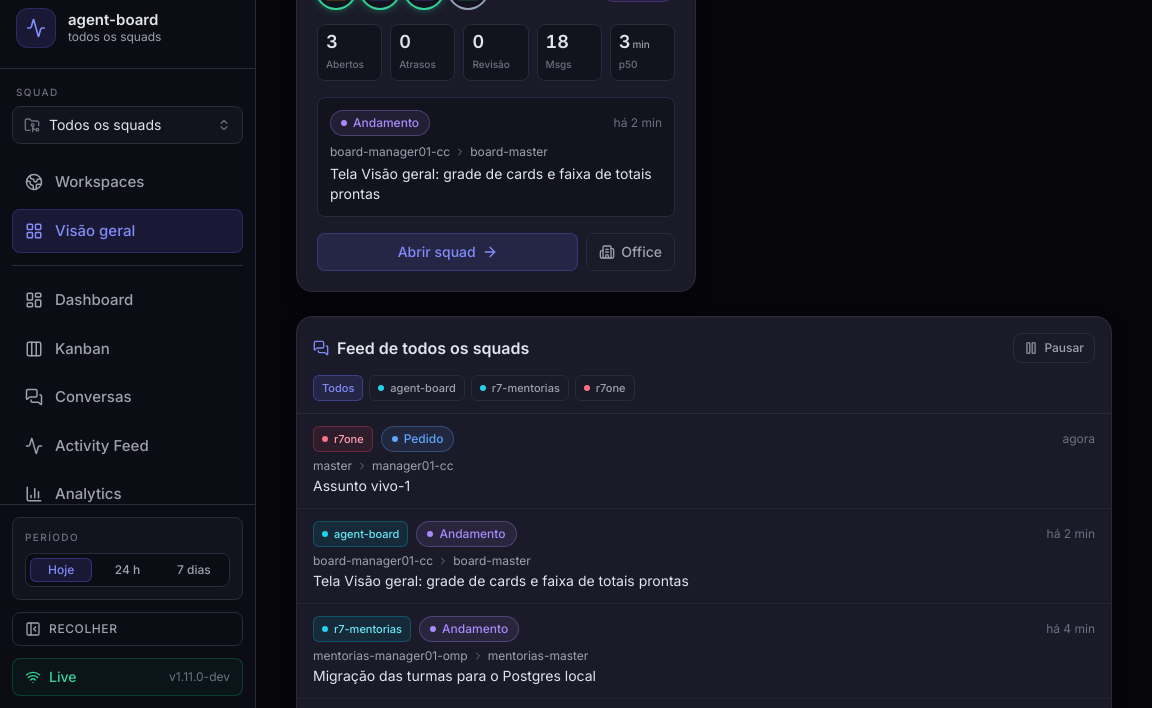
Test: feed unificado › pausa guarda as mensagens novas e retomar as despeja; a mensagem do stream aparece no topo
(page scrolled)
Expected: the list item with test id "feed-geral-linha" shows "Assunto vivo-1", [313,477,410,494]
Step 1. Click the button "Pausar" → {"x": 1054, "y": 348}, box [1013,333,1095,363]
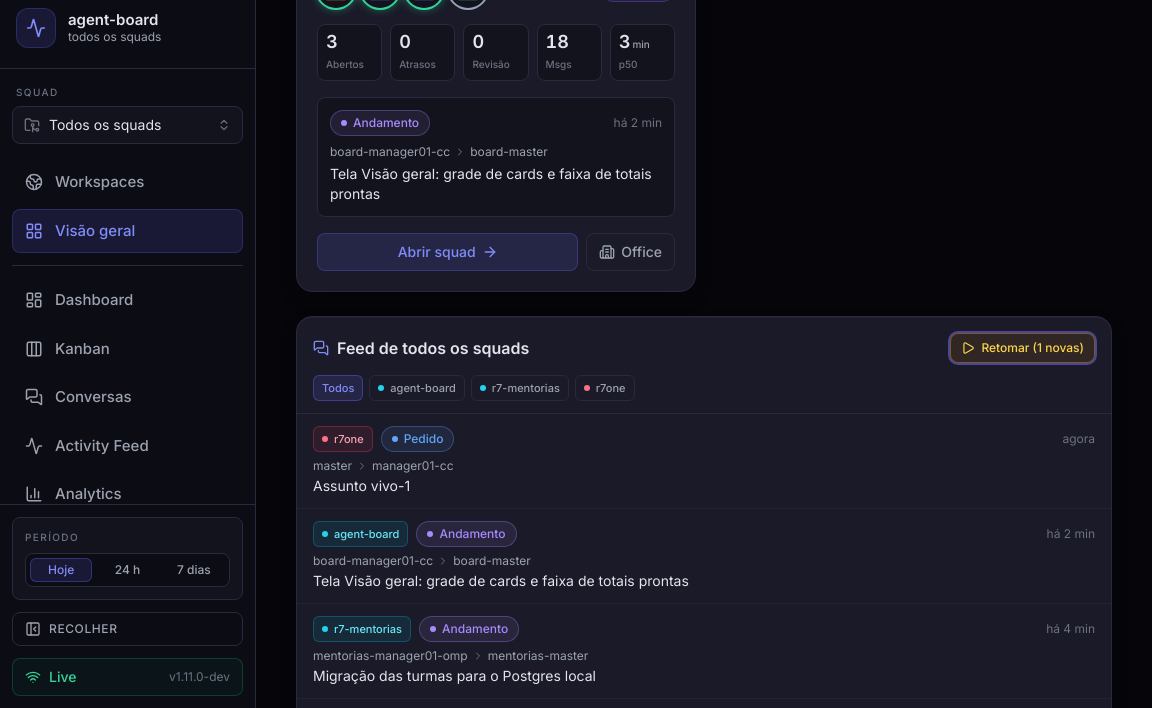
Expected: the text "Assunto vivo-2" is not shown
Step 2. Click the button "Retomar (1 novas)" → {"x": 1023, "y": 348}, box [950,333,1095,363]
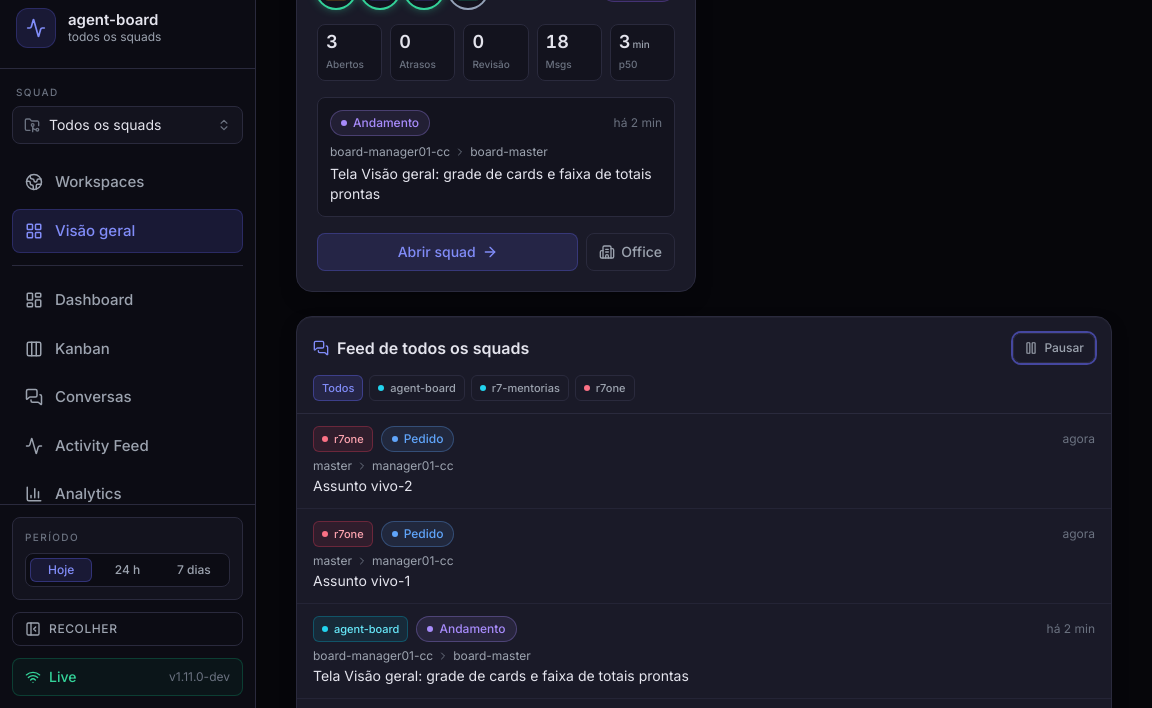
Expected: the text "Assunto vivo-2" is shown, [313,477,412,494]
